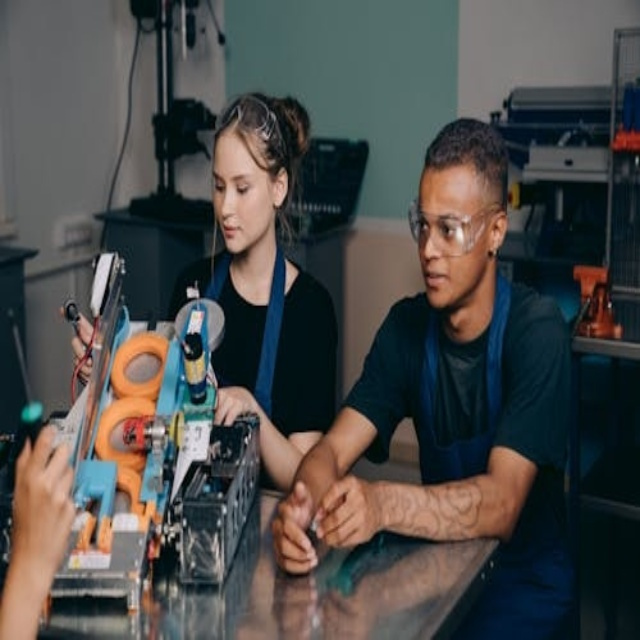Gafas: (407, 200, 503, 256), (220, 96, 283, 158)
Sin_gafas: (212, 165, 265, 206)
Sin_guantes: (6, 423, 84, 561), (312, 465, 379, 557), (270, 474, 327, 575), (269, 563, 330, 640), (63, 310, 98, 388)
Sin_mascara: (421, 261, 456, 309), (216, 215, 244, 252)
